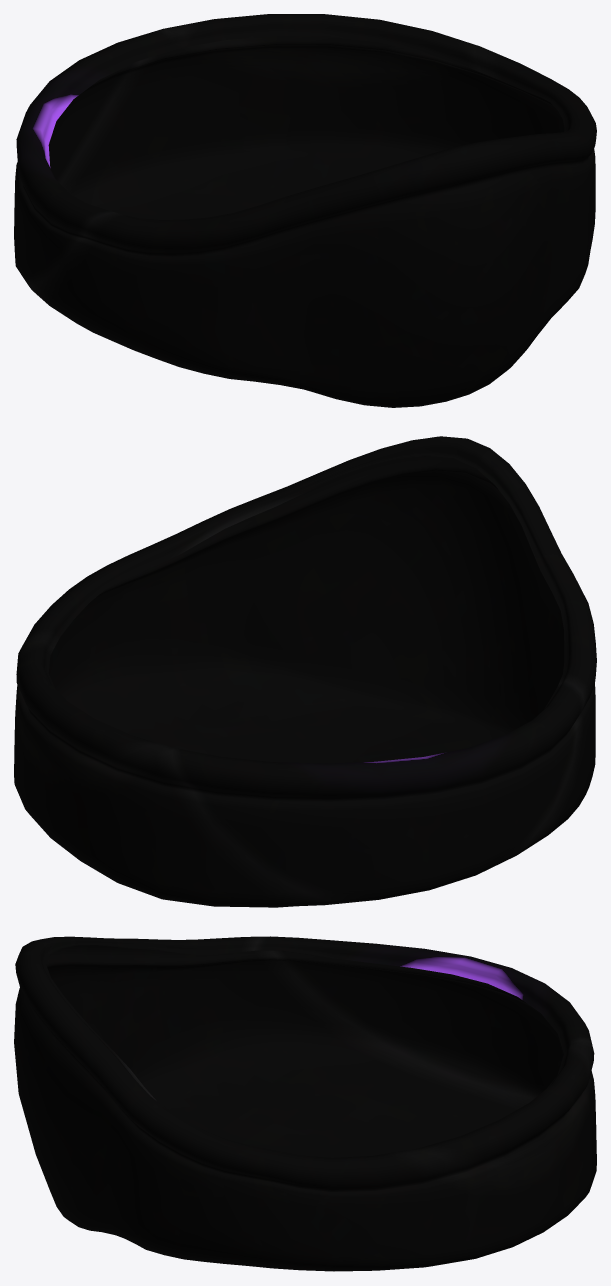
The model's file is Ninja Mask.glb.
3 renders of one model, top to bottom at view 1: azimuth 30°, elevation 25°; view 2: azimuth 150°, elevation 25°; view 3: azimuth 270°, elevation 25°, orthographic. The views are drawn at different scales.
Parts seen in each view (by area): view 1: Mask; view 2: Mask; view 3: Mask.
Boxes of the visible parts, x1,y1,x2,y2 form: Mask: (14,14,596,407); Mask: (14,436,596,907); Mask: (14,936,596,1271).
Size of the model in its own units: 0.2751 by 0.1366 by 0.2904.
1 material, 1 textured.
